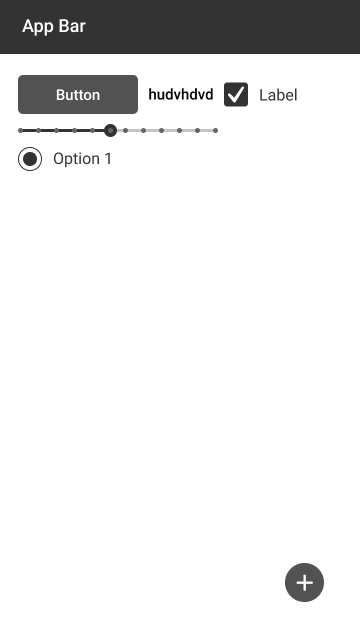button: (16, 73, 141, 115)
checkBox: (221, 79, 303, 110)
floatingButton: (281, 560, 327, 604)
radioButton: (14, 144, 114, 173)
slider: (14, 121, 225, 139)
textView: (145, 86, 216, 104)
toolbar: (1, 1, 359, 53)
